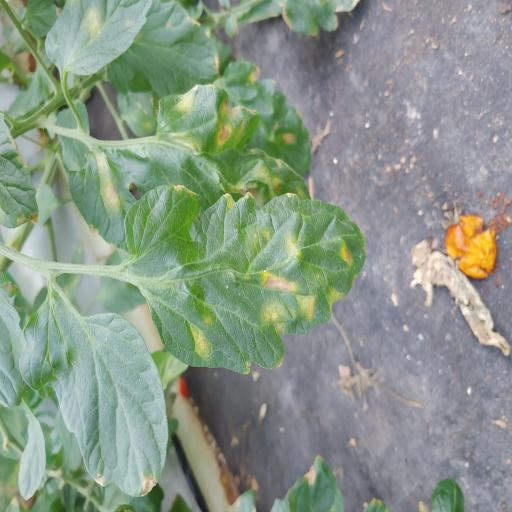disease_tomato: (126, 182, 366, 374), (75, 84, 312, 256), (46, 0, 153, 76)
